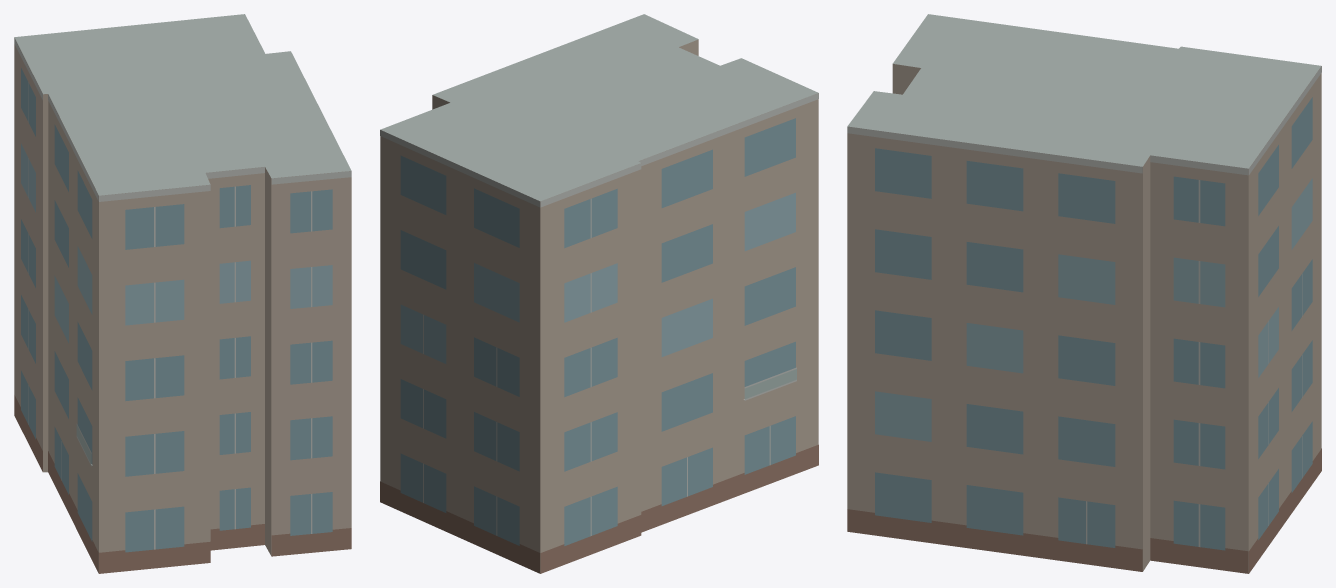
Rendered from survey-upis-33011795.glb.
3 views of the same model, side by side, from view 1: azimuth 30°, elevation 25°; view 2: azimuth 150°, elevation 25°; view 3: azimuth 270°, elevation 25° (orthographic). The views are drawn at different scales.
Parts seen in each view (by area): view 1: survey-upis-33011795.tmp; view 2: survey-upis-33011795.tmp; view 3: survey-upis-33011795.tmp.
Part boxes in pixels (left/top/right/bottom): survey-upis-33011795.tmp: left=14, top=14, right=351, bottom=573; survey-upis-33011795.tmp: left=380, top=14, right=818, bottom=573; survey-upis-33011795.tmp: left=847, top=14, right=1321, bottom=573.
Size of the model in its own units: 12 by 14.65 by 15.55.
